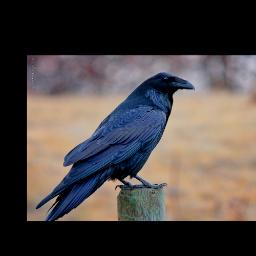Crow: (35, 71, 197, 221)
